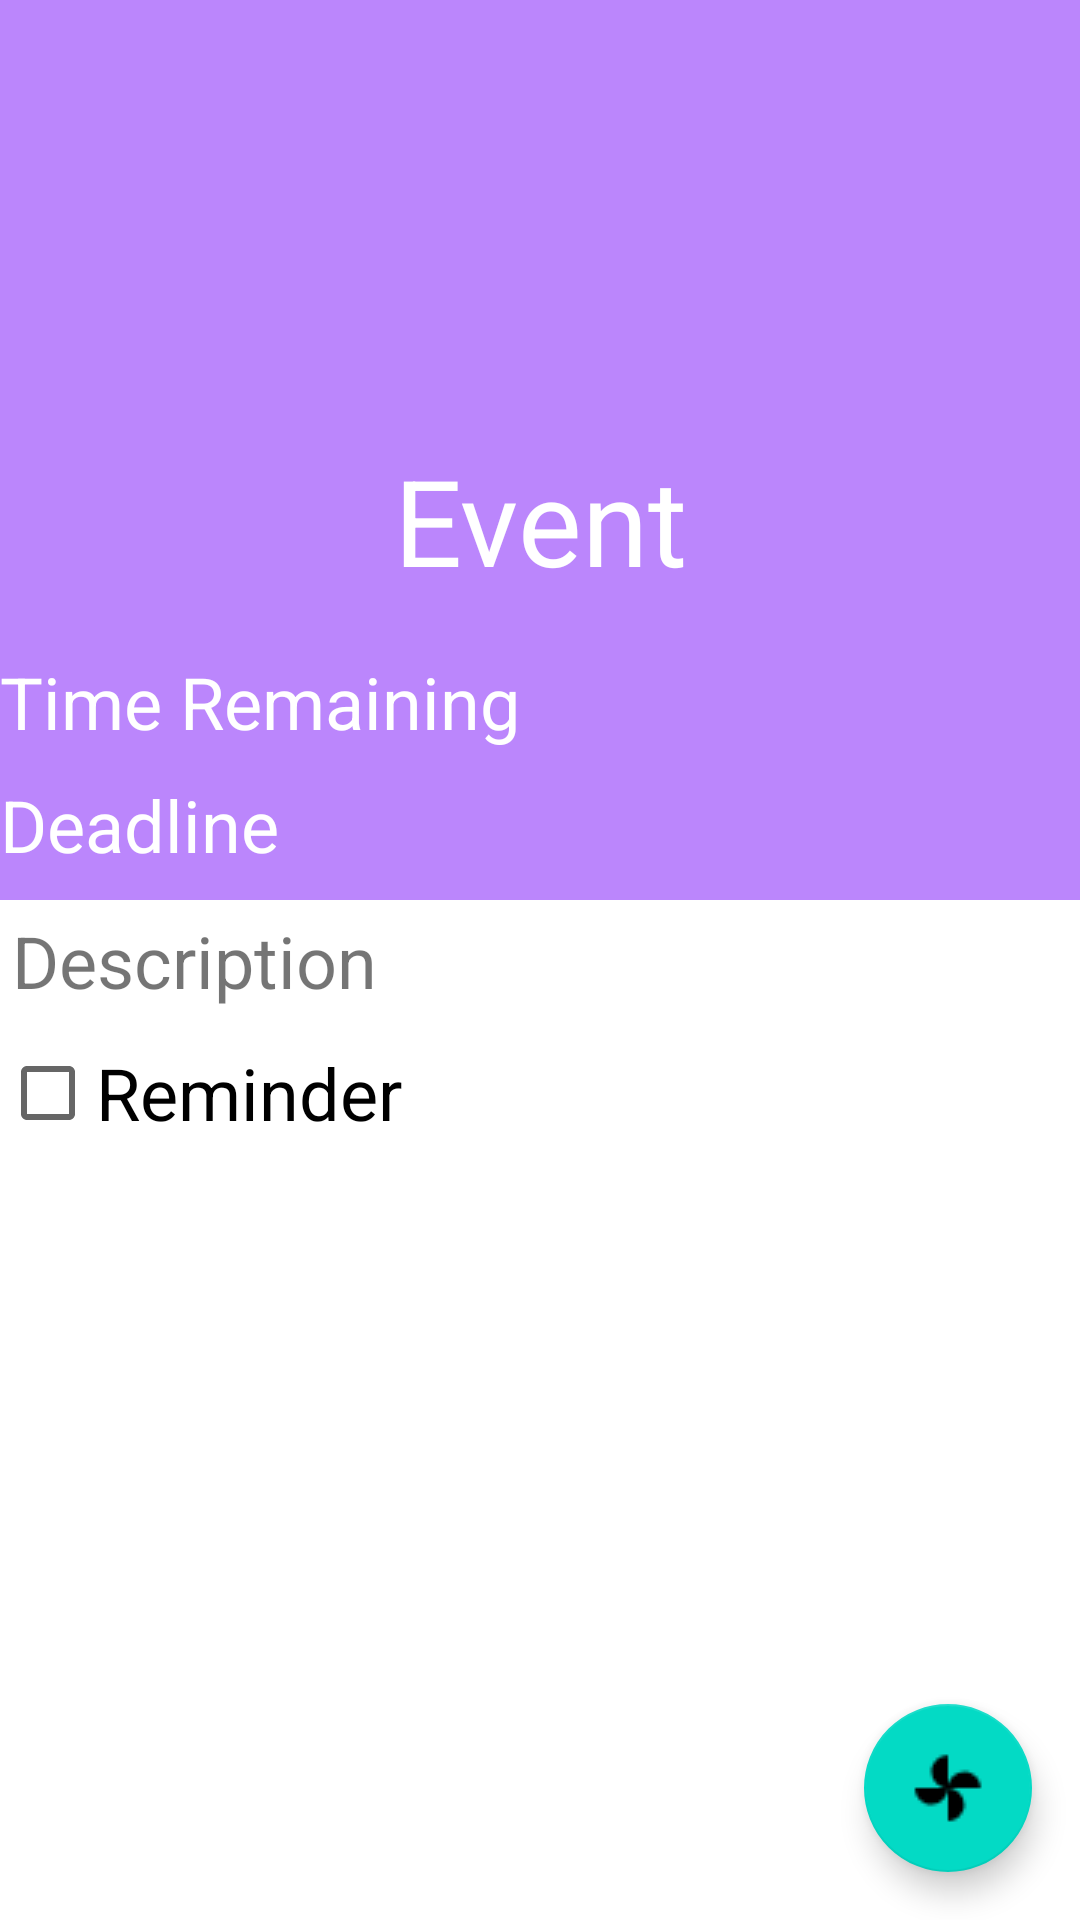

Icons on this 1080×1920 Android screen, each with the point to tap as (x,y):
toys: (948,1788)
